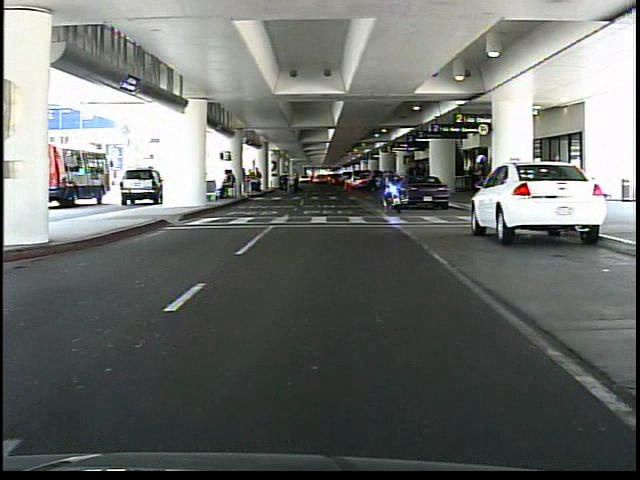person: (466, 150, 493, 225)
